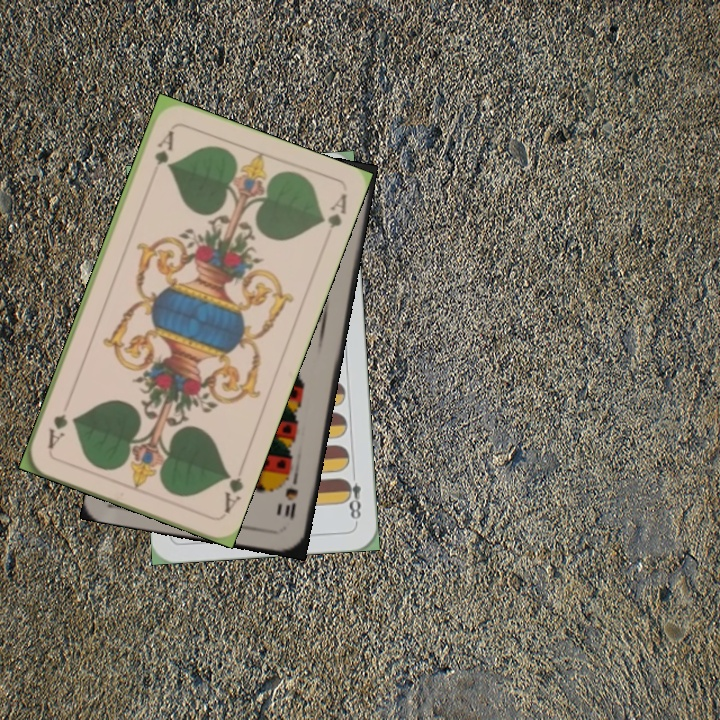E8: (340, 466, 364, 525)
GA: (220, 467, 246, 516), (150, 126, 177, 168)
S10: (280, 471, 301, 523)
